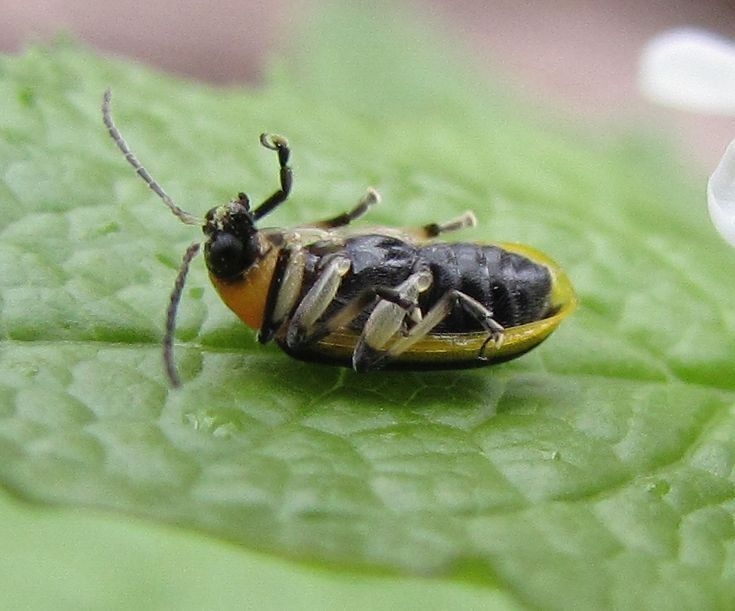potato_beetle: (81, 116, 618, 437)
